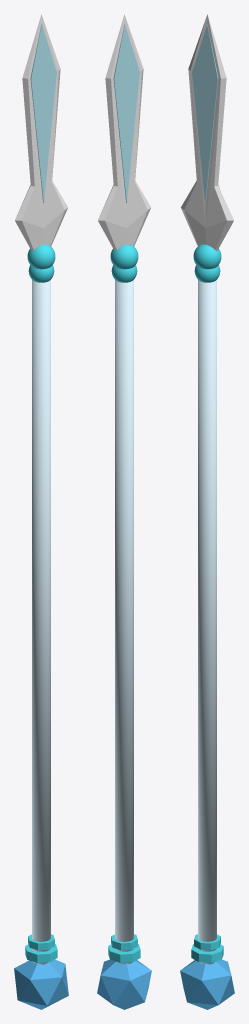
File: Ice Spear.fbx
The picture shows the model from 3 angles, left to right: view 1: azimuth 30°, elevation 25°; view 2: azimuth 210°, elevation 25°; view 3: azimuth 330°, elevation 25°; orthographic projection.
Parts seen in each view (by area): view 1: Spear, Blade, Spear End, Blade Base 1, Spear End Base 1, Blade Base 2, Spear End Base 2; view 2: Spear, Blade, Spear End, Blade Base 1, Spear End Base 1, Blade Base 2, Spear End Base 2; view 3: Spear, Blade, Spear End, Blade Base 1, Spear End Base 1, Blade Base 2, Spear End Base 2.
Boxes of the visible parts, x1,y1,x2,y2 form: Spear: [32, 280, 50, 964]; Blade: [15, 14, 67, 250]; Spear End: [14, 959, 68, 1009]; Blade Base 1: [27, 244, 55, 269]; Spear End Base 1: [25, 944, 57, 962]; Blade Base 2: [28, 265, 54, 282]; Spear End Base 2: [28, 934, 54, 950]; Spear: [115, 280, 133, 964]; Blade: [98, 14, 150, 250]; Spear End: [97, 959, 151, 1009]; Blade Base 1: [110, 244, 138, 269]; Spear End Base 1: [108, 944, 140, 962]; Blade Base 2: [111, 265, 137, 282]; Spear End Base 2: [111, 934, 137, 950]; Spear: [198, 280, 216, 964]; Blade: [181, 14, 233, 250]; Spear End: [180, 959, 234, 1009]; Blade Base 1: [193, 244, 221, 269]; Spear End Base 1: [191, 944, 223, 962]; Blade Base 2: [194, 265, 220, 282]; Spear End Base 2: [194, 934, 220, 950].
Bounding box in the file's own units: 13.03 × 232 × 11.08.
